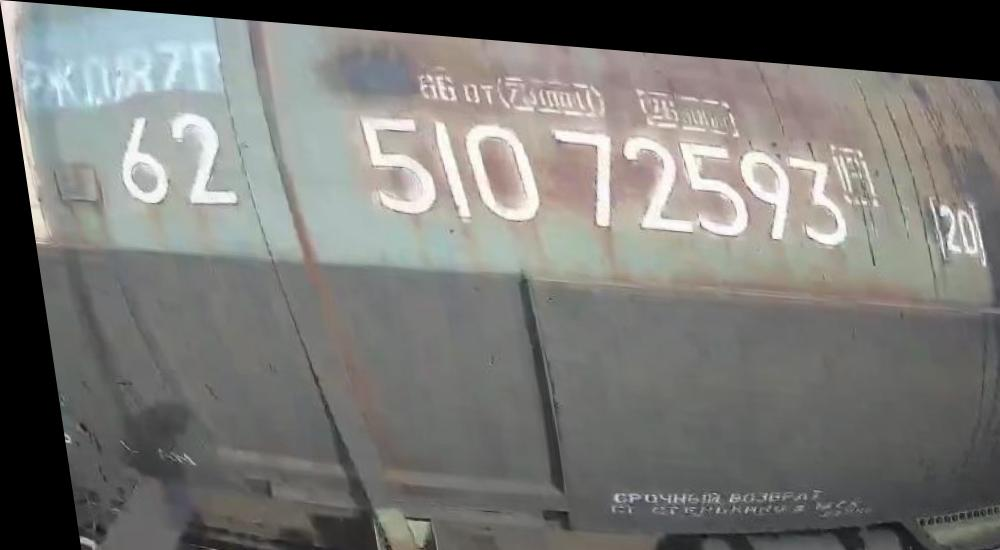Wagon-number: (343, 96, 853, 245)
